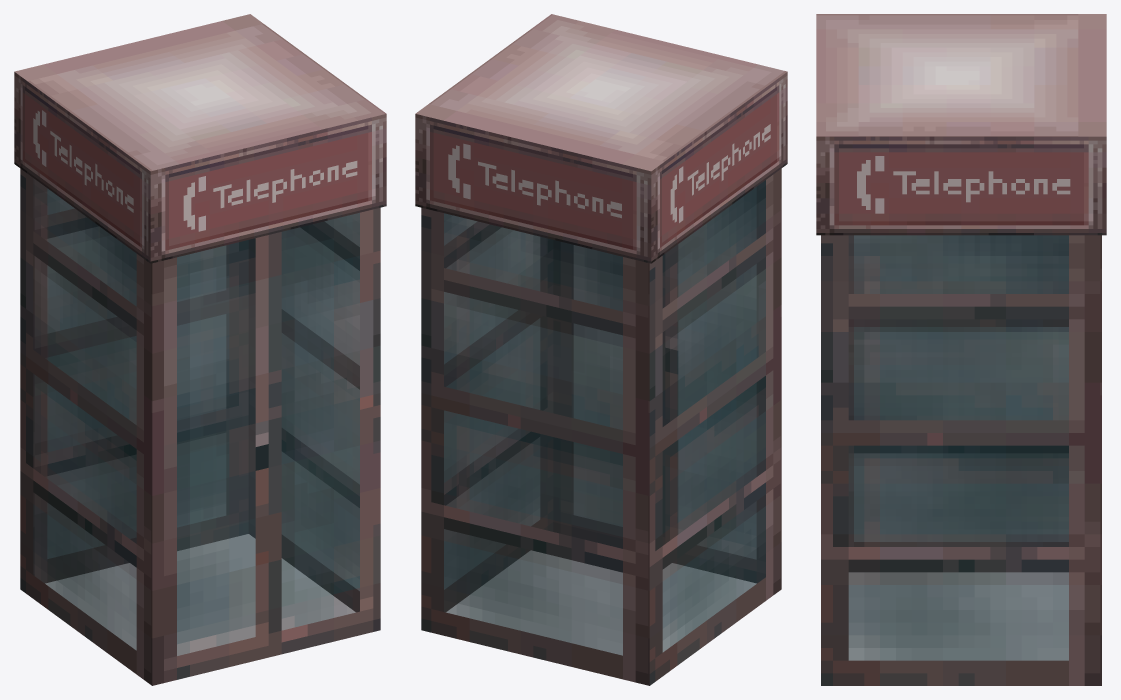
The model's file is Environment - Prop - phoneb - PMphoneb.glb.
3 views of the same model, side by side, from view 1: azimuth 30°, elevation 25°; view 2: azimuth 150°, elevation 25°; view 3: azimuth 270°, elevation 25° (orthographic). The views are drawn at different scales.
Parts seen in each view (by area): view 1: PMPHONEB; view 2: PMPHONEB; view 3: PMPHONEB.
Boxes of the visible parts, box(x1,y1,x2,y2) form: PMPHONEB: box(14, 14, 386, 685); PMPHONEB: box(415, 14, 787, 685); PMPHONEB: box(816, 14, 1106, 685).
Size of the model in its own units: 8.25 by 17.27 by 8.25.
1 material, 1 textured.
